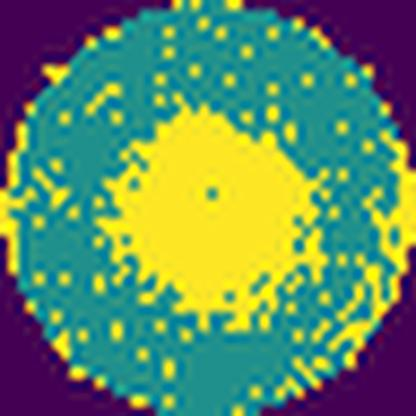Center: (111, 101, 320, 316)
